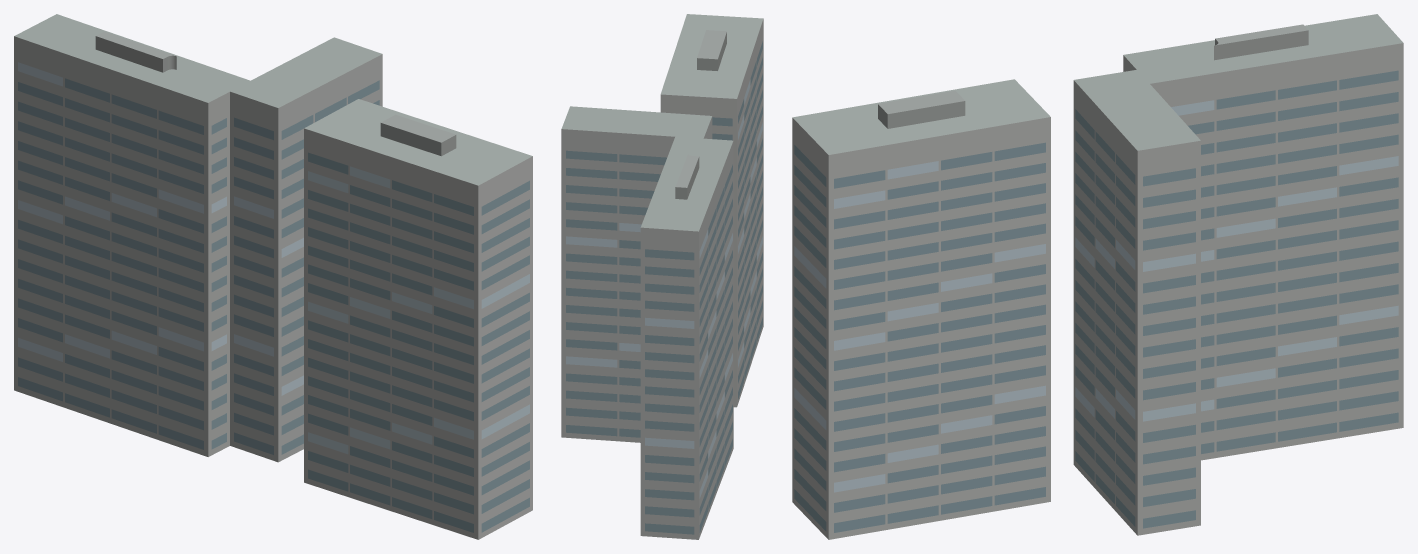
Rendered from apt-a15010501.glb.
The picture shows the model from 3 angles, left to right: view 1: azimuth 30°, elevation 25°; view 2: azimuth 150°, elevation 25°; view 3: azimuth 270°, elevation 25°; orthographic projection. The views are drawn at different scales.
Parts seen in each view (by area): view 1: apt-a15010501; view 2: apt-a15010501; view 3: apt-a15010501.
Part boxes in pixels (x1=…): apt-a15010501: x1=14, y1=14, x2=532, y2=539; apt-a15010501: x1=561, y1=14, x2=763, y2=539; apt-a15010501: x1=792, y1=14, x2=1403, y2=539.
Bounding box in the file's own units: 49.24 × 65 × 90.12.
